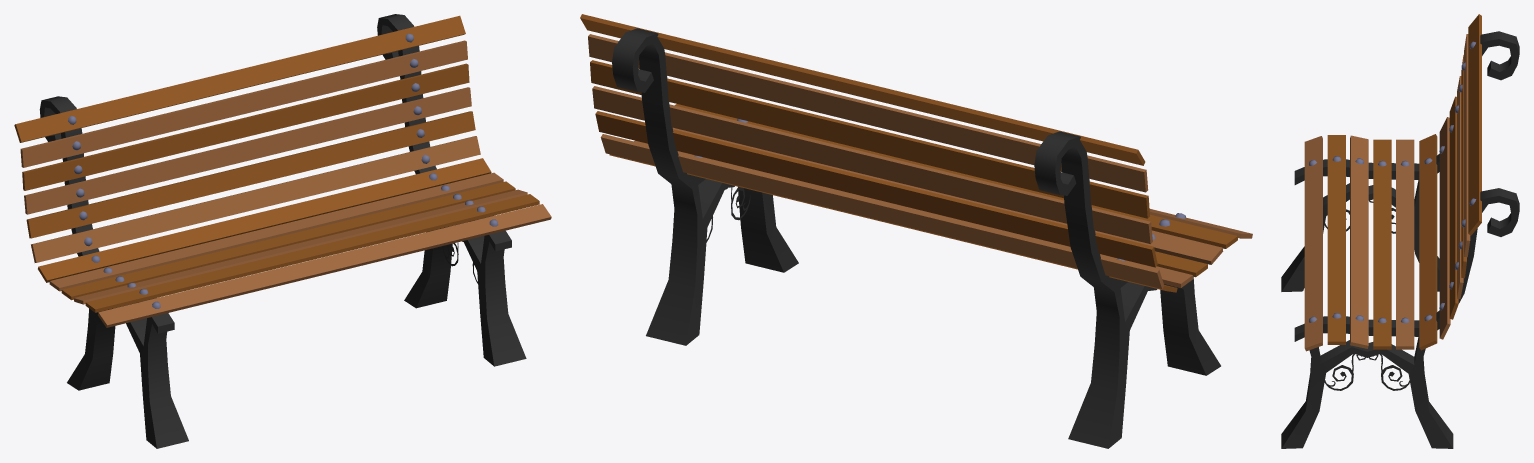
File: Banco.fbx
The picture shows the model from 3 angles, left to right: view 1: azimuth 30°, elevation 25°; view 2: azimuth 150°, elevation 25°; view 3: azimuth 270°, elevation 25°; orthographic projection. The views are drawn at different scales.
Parts seen in each view (by area): view 1: Presset2.001; view 2: Presset2.001; view 3: Presset2.001.
Boxes of the visible parts, x1=… form: Presset2.001: x1=14, y1=14, x2=551, y2=448; Presset2.001: x1=580, y1=14, x2=1252, y2=448; Presset2.001: x1=1281, y1=14, x2=1519, y2=448.
Size of the model in its own units: 161 by 90.5 by 78.28.
